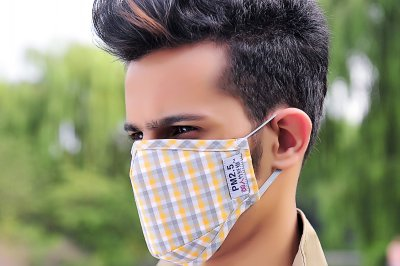face_mask: (123, 62, 266, 242)
